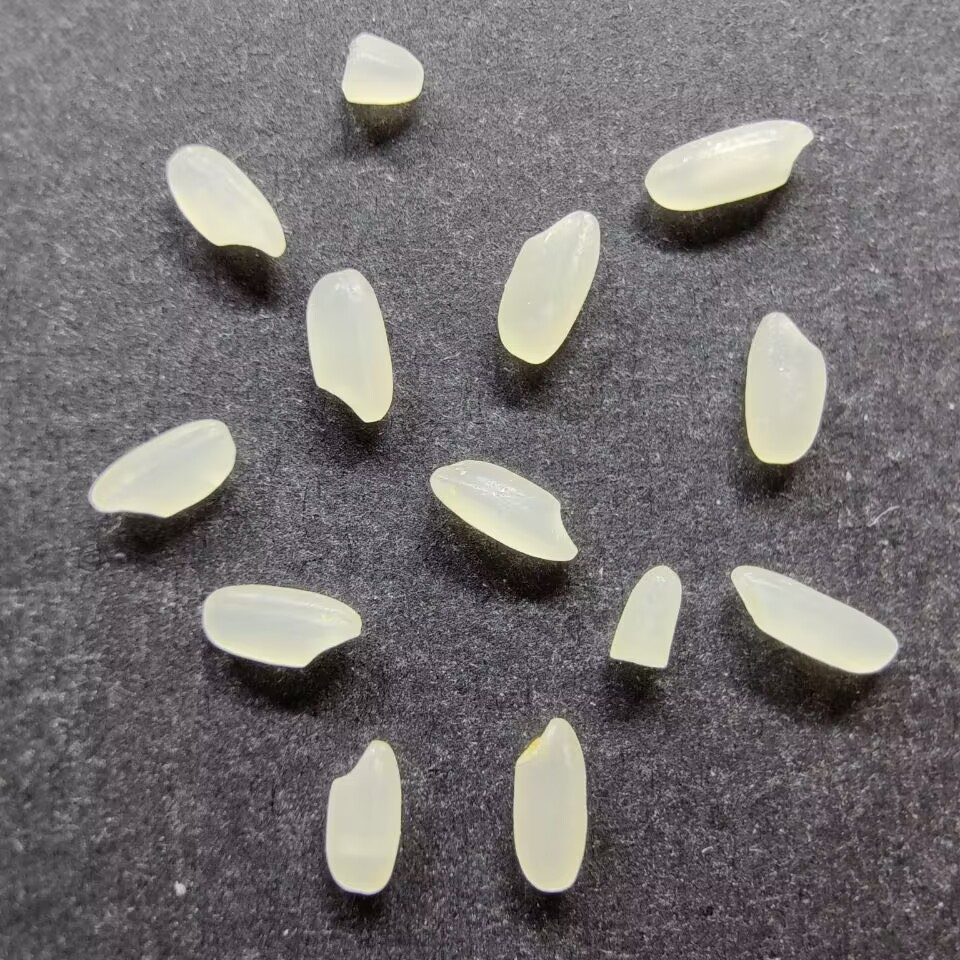broken: (606, 562, 684, 670), (337, 31, 425, 106)
rice: (728, 563, 899, 675), (495, 208, 602, 365), (642, 117, 815, 213), (428, 458, 580, 563), (87, 416, 236, 519), (303, 267, 395, 425), (199, 583, 364, 669), (165, 143, 287, 259), (509, 715, 588, 893), (742, 309, 829, 465), (322, 737, 403, 895)
